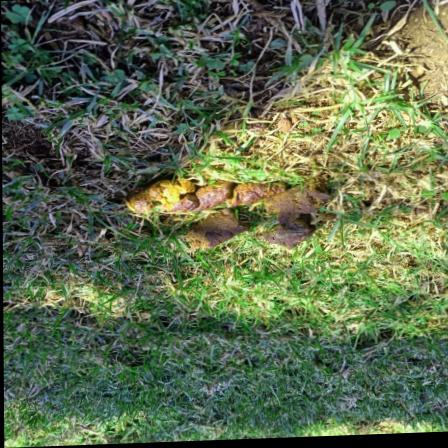dog-poop: (122, 168, 322, 265)
